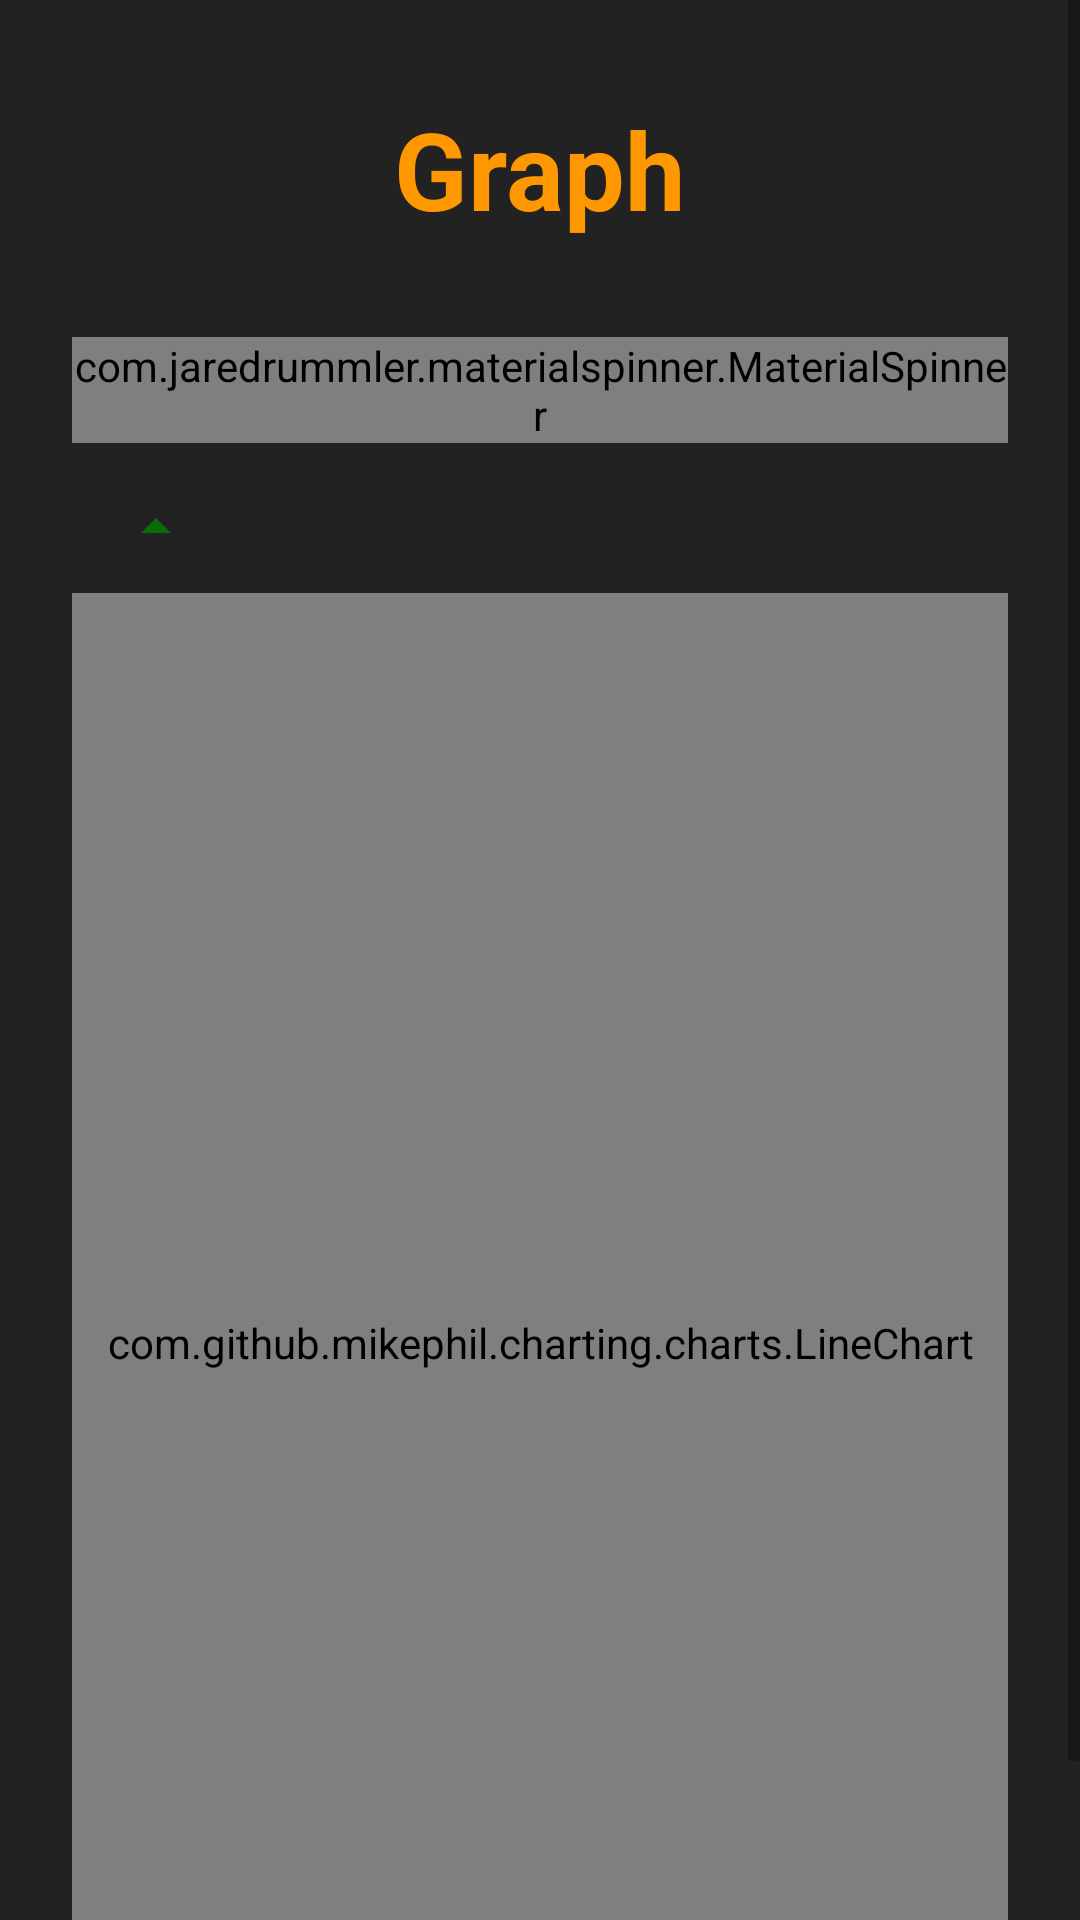

Point at icon controls on the screen. Image size 1080 × 1920, points as point (x, y).
naik: point (156, 525)
